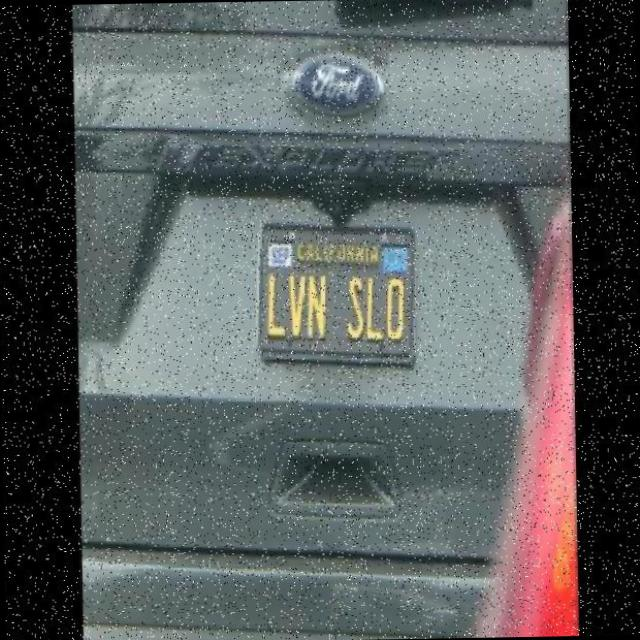LicensePlate: (258, 220, 416, 372)
